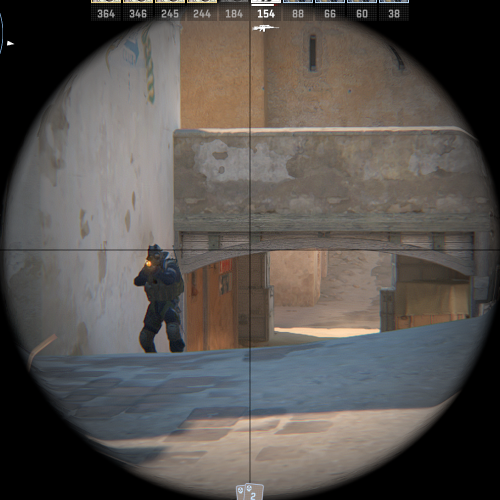ct_body: (135, 246, 186, 356)
ct_head: (146, 245, 164, 263)
